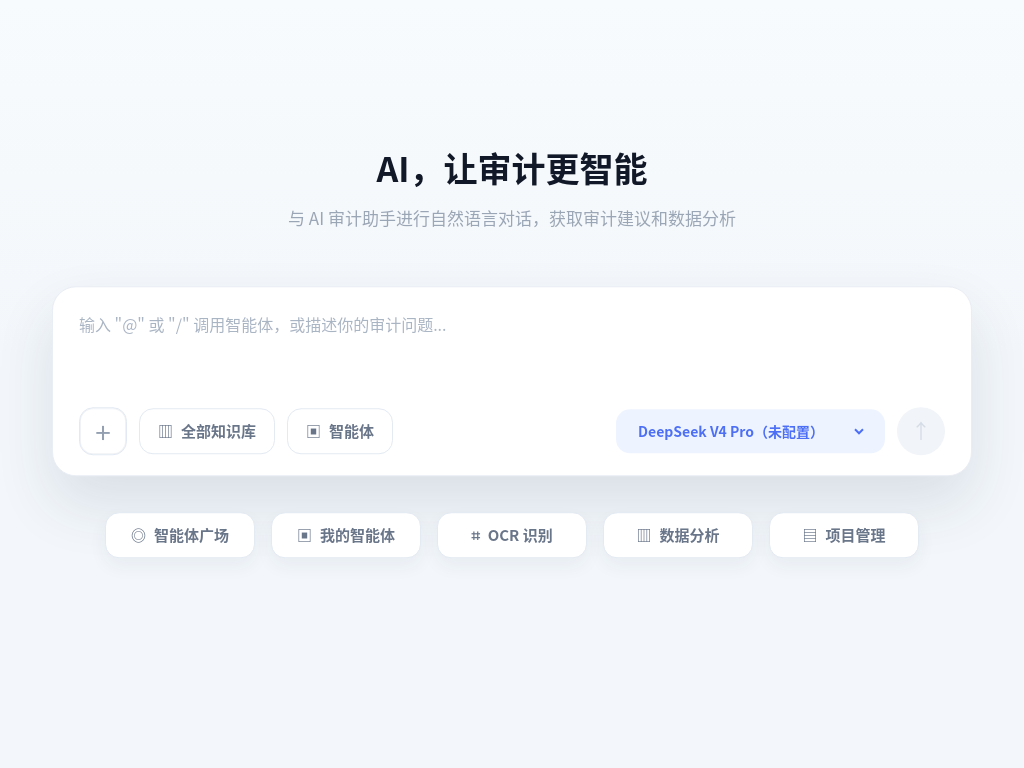
Scenario: ChatPortalPage › falls back to the default knowledge query path when chat model aliases are unavailable
Type "医保基金审核依据" into the text box named "输入相关问题以对话". click: (512, 351)
box: [79,312,945,389]
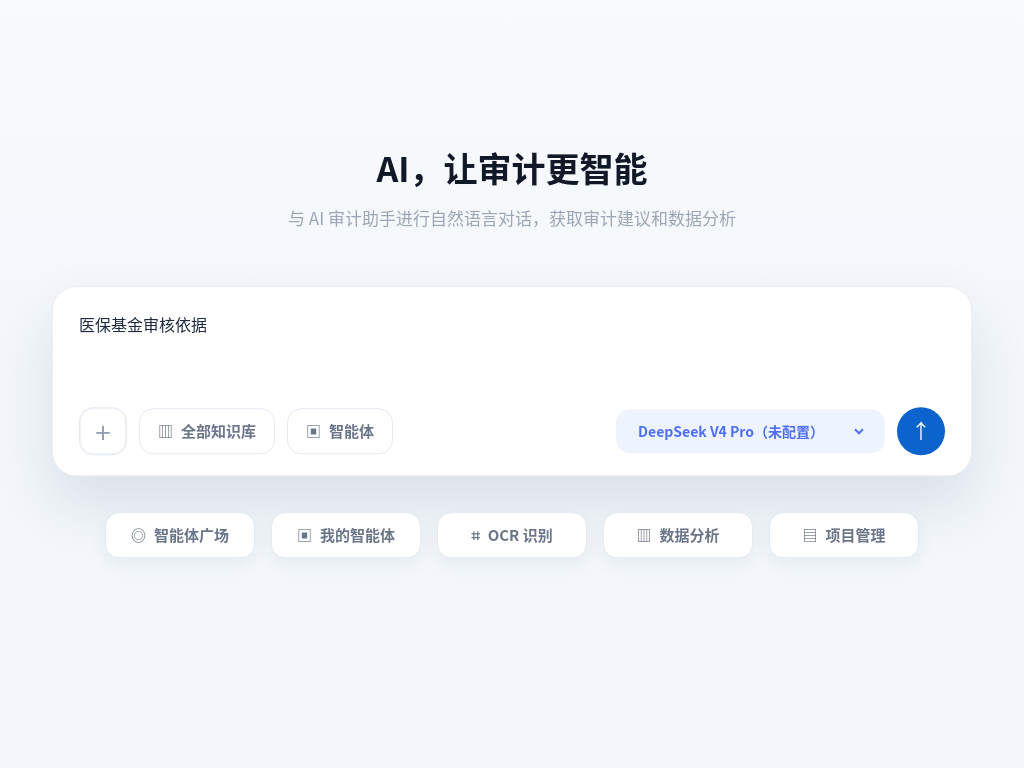
Click the button named "发送问题". click: (921, 431)
box: [897,407,945,455]
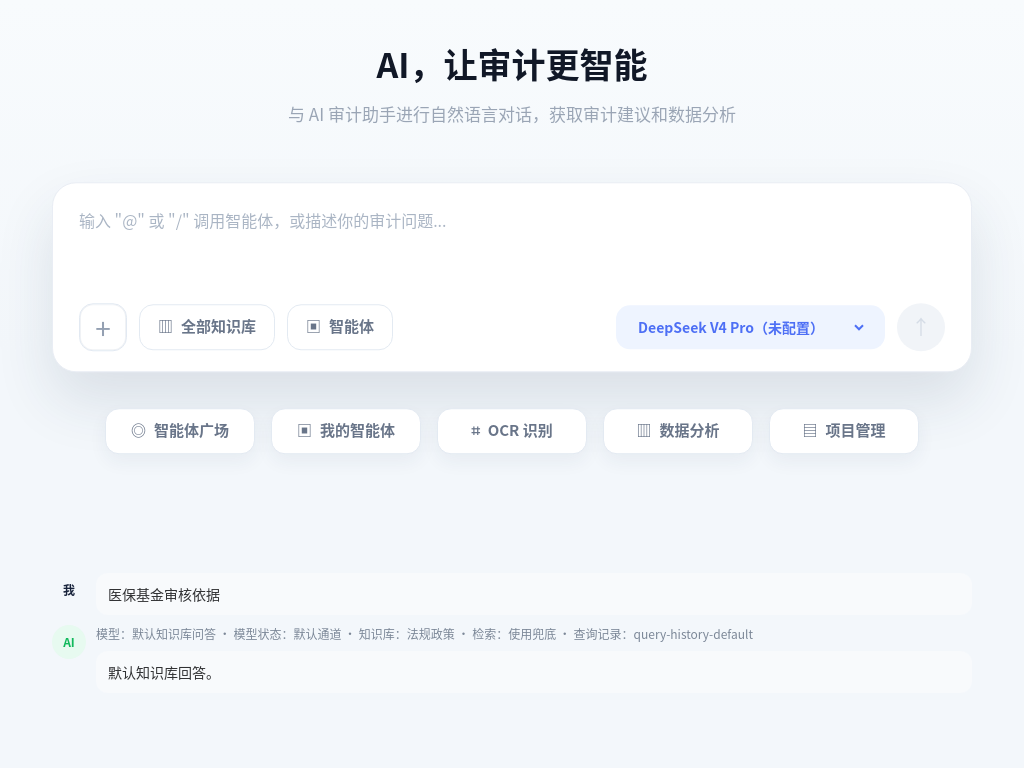
Expected: the text "默认知识库回答。" is shown, [96,651,972,693]
Expected: the text "检索：使用兜底" is shown, [96,625,753,642]
